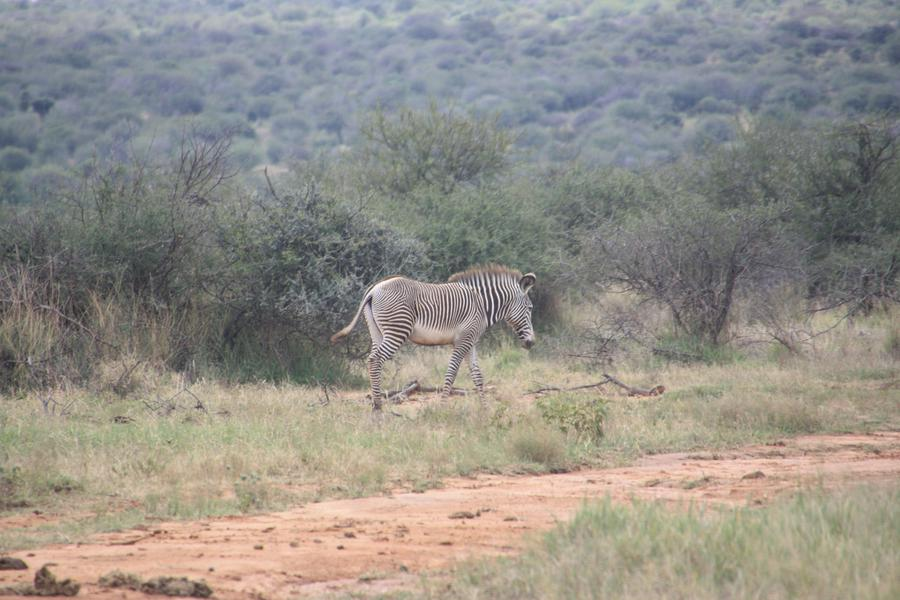zebra_grevys: (360, 265, 480, 338)
